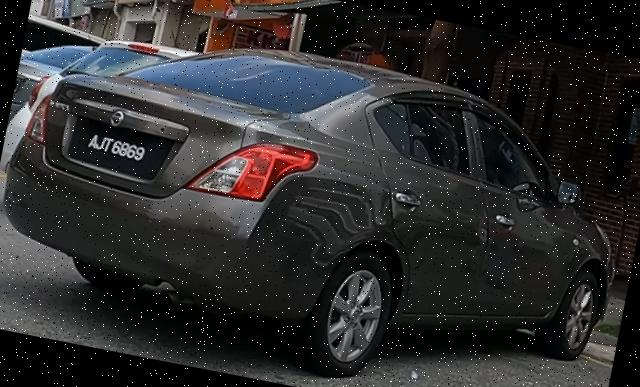License_Plate: (60, 110, 178, 185)
car: (1, 1, 640, 387)
